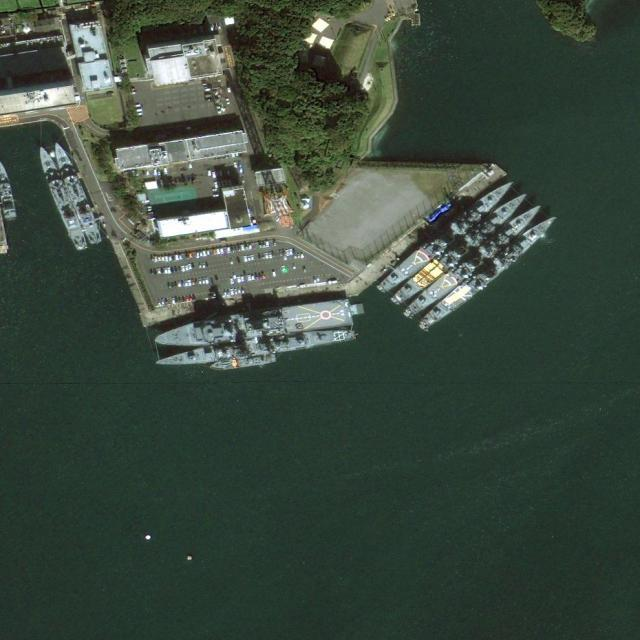Destroyer: (420, 211, 560, 332), (405, 199, 545, 320), (378, 174, 518, 294), (391, 187, 530, 307), (155, 326, 356, 370)
Landing: (152, 297, 353, 352)
Other Ship: (401, 310, 414, 322), (417, 323, 429, 334), (376, 283, 387, 295), (405, 308, 416, 319), (390, 297, 401, 308), (419, 321, 430, 330)
Other Warship: (49, 138, 104, 245), (34, 143, 88, 250), (210, 354, 277, 372), (1, 161, 18, 222)
